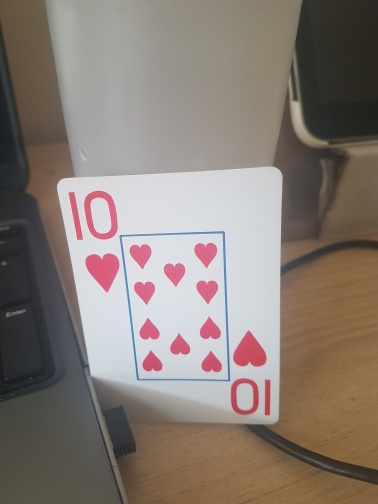ten: (57, 166, 282, 427)
